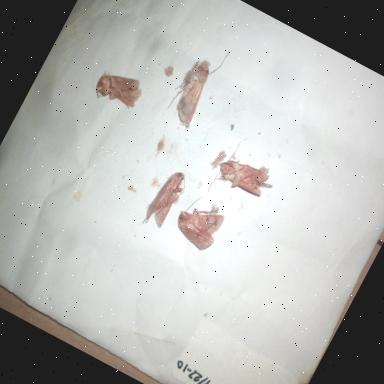abw: (156, 30, 237, 136), (198, 132, 285, 220), (131, 156, 199, 240), (162, 186, 235, 264), (86, 57, 152, 120)
